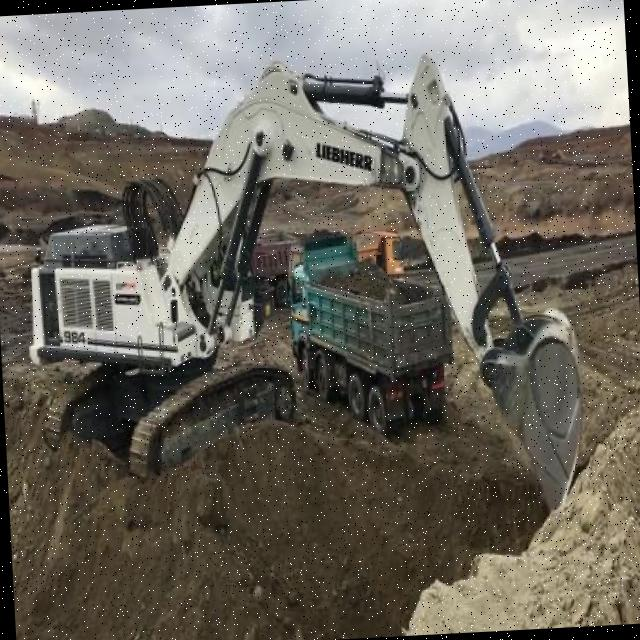Dump Truck: (277, 234, 456, 426)
Excavator: (11, 42, 597, 554)
